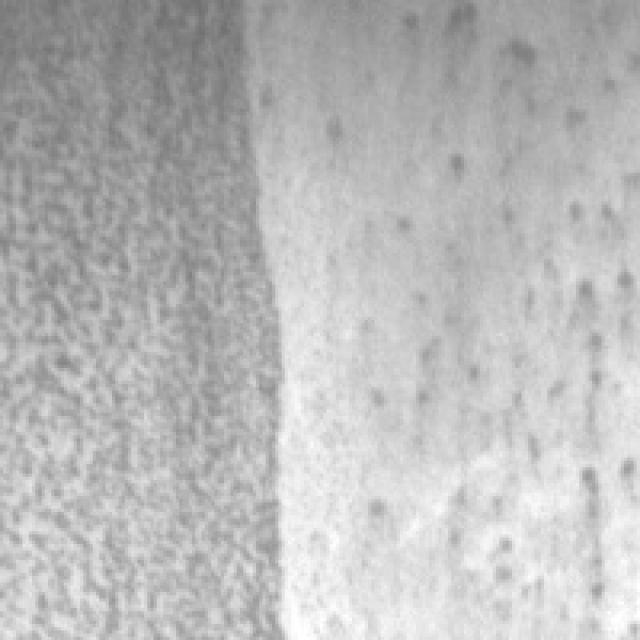pitted_surface: (7, 0, 285, 630), (368, 3, 640, 614)
